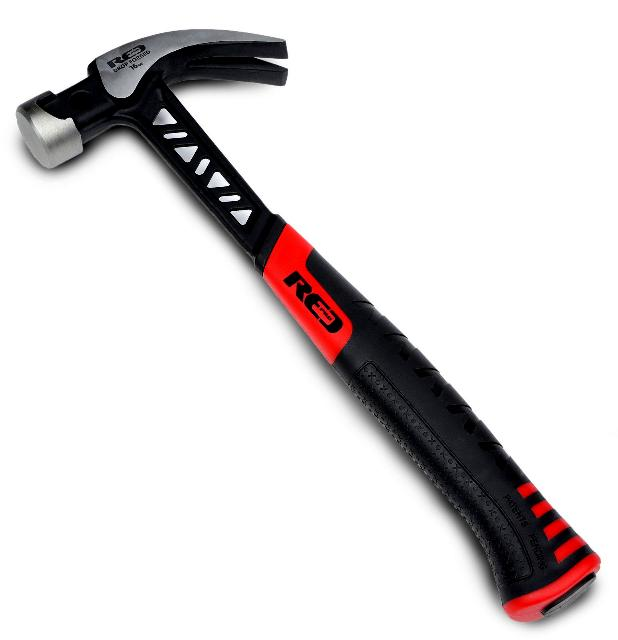hammer: (7, 22, 611, 632)
